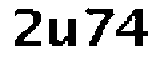2: (11, 5, 45, 52)
4: (115, 5, 159, 47)
7: (83, 3, 115, 49)
u: (47, 15, 79, 48)
